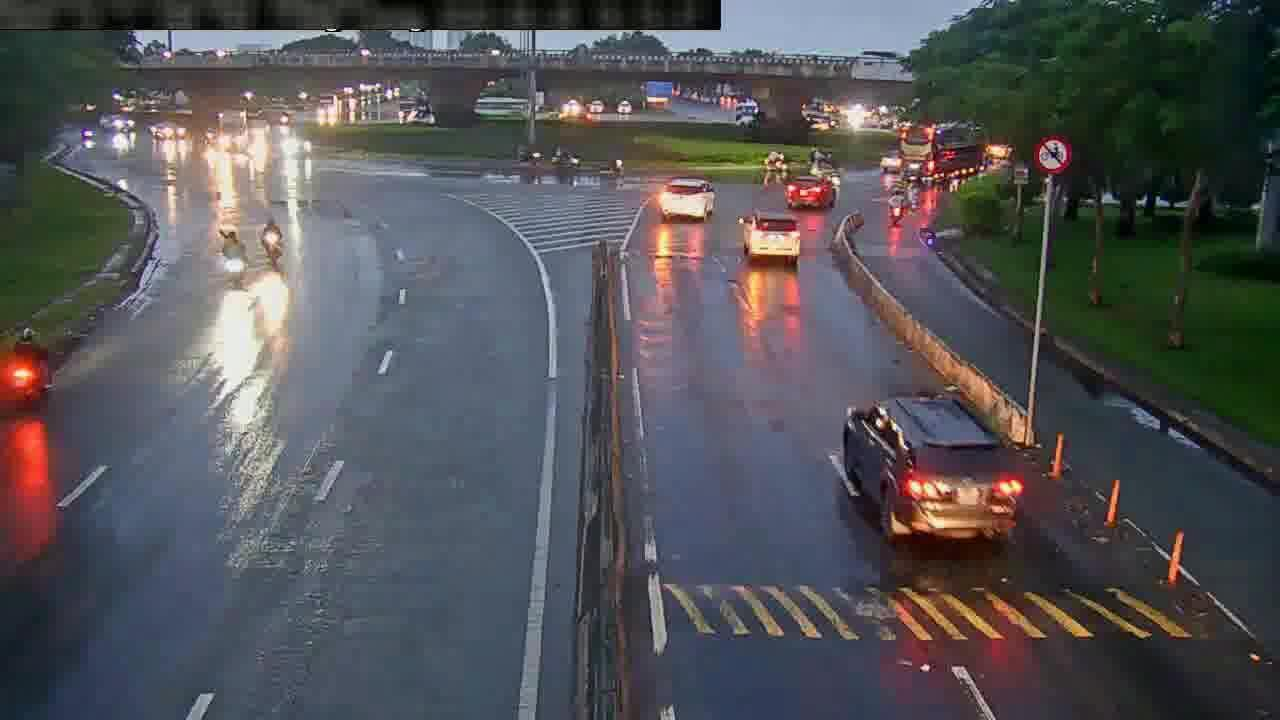container: (842, 391, 1024, 545), (737, 207, 800, 264), (658, 173, 715, 219), (785, 173, 836, 210)
motorbike: (4, 325, 51, 400), (216, 226, 251, 291), (259, 216, 283, 272), (888, 184, 904, 229)
